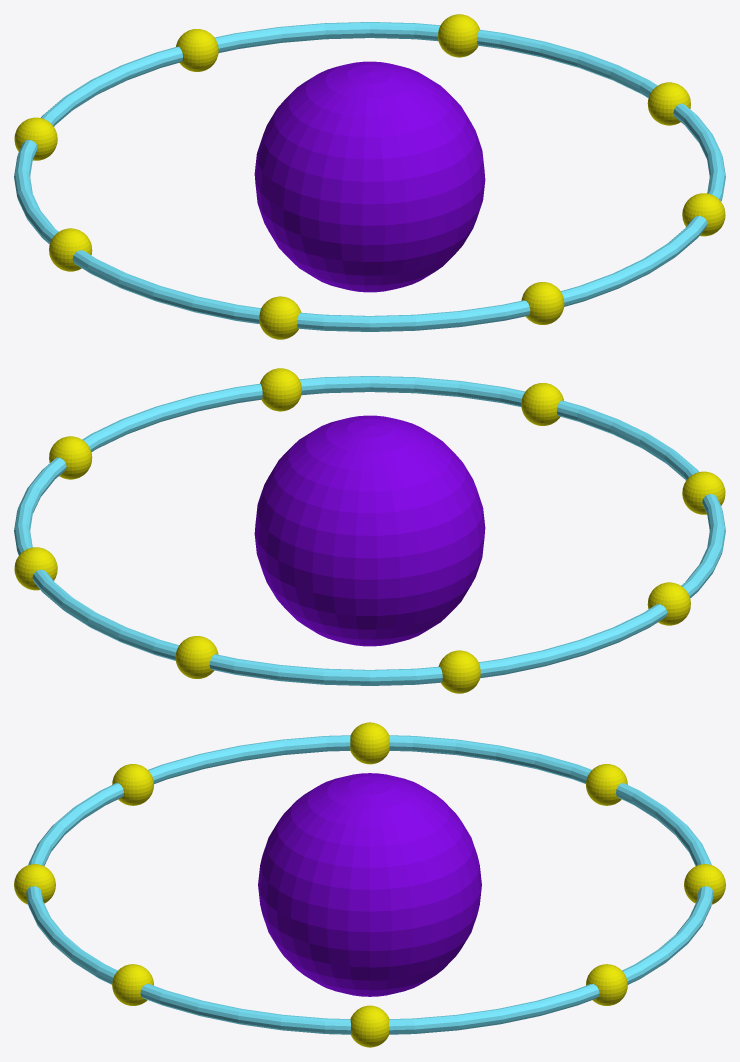
File: oxygen_dpsd19080.glb
3 renders of one model, top to bottom at view 1: azimuth 30°, elevation 25°; view 2: azimuth 150°, elevation 25°; view 3: azimuth 270°, elevation 25°, orthographic. The views are drawn at different scales.
Visible parts, largest first — view 1: Sphere; view 2: Sphere; view 3: Sphere.
Boxes of the visible parts, x1,y1,x2,y2 form: Sphere: (14, 14, 725, 339); Sphere: (14, 368, 725, 693); Sphere: (14, 722, 725, 1047).
Size of the model in its own units: 2.14 by 0.6737 by 2.14.
